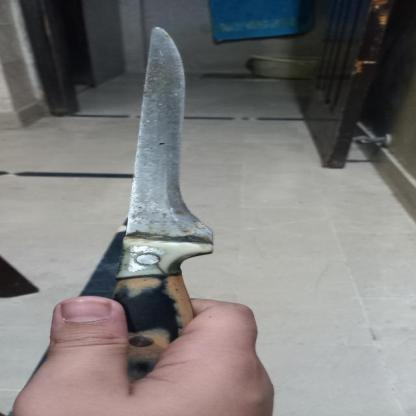Knife: (96, 22, 219, 384)
